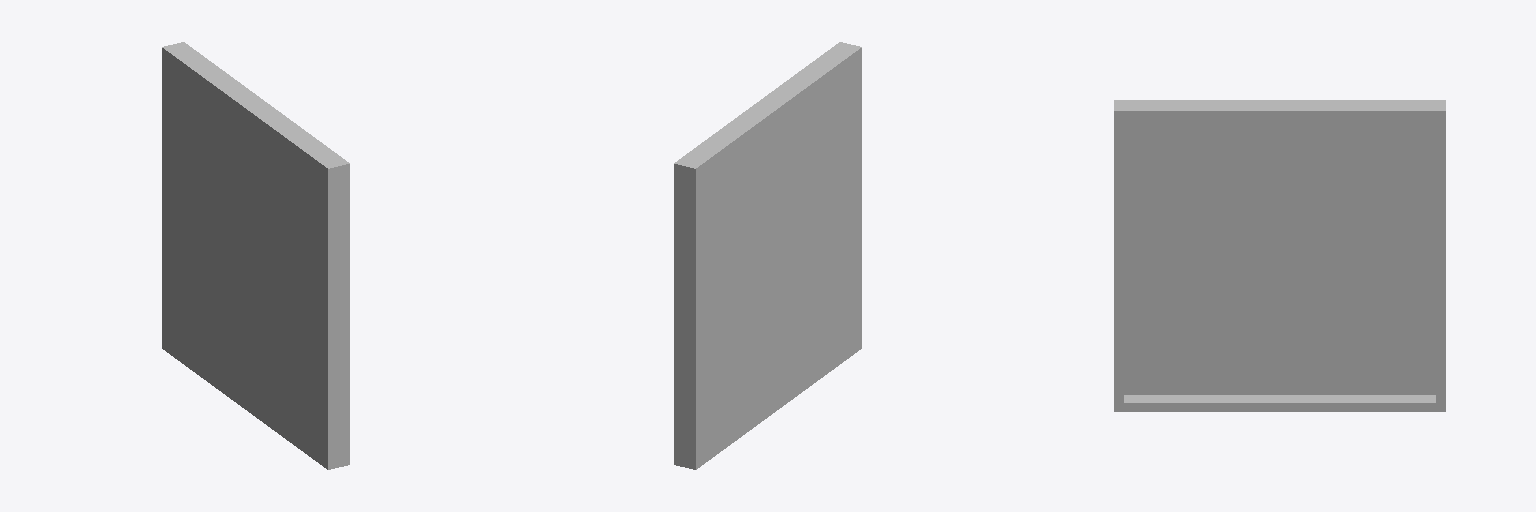
Rendered from ChestSocketFix.obj.
3 renders of one model, left to right at view 1: azimuth 30°, elevation 25°; view 2: azimuth 150°, elevation 25°; view 3: azimuth 270°, elevation 25°, orthographic.
Visible parts, largest first — view 1: pCube1; view 2: pCube1; view 3: pCube1.
Part boxes in pixels (x1,y1,x2,y2): pCube1: (162, 42, 349, 469); pCube1: (674, 42, 861, 469); pCube1: (1114, 100, 1445, 411).
Bounding box in the file's own units: 0.2482 × 3.25 × 3.25.